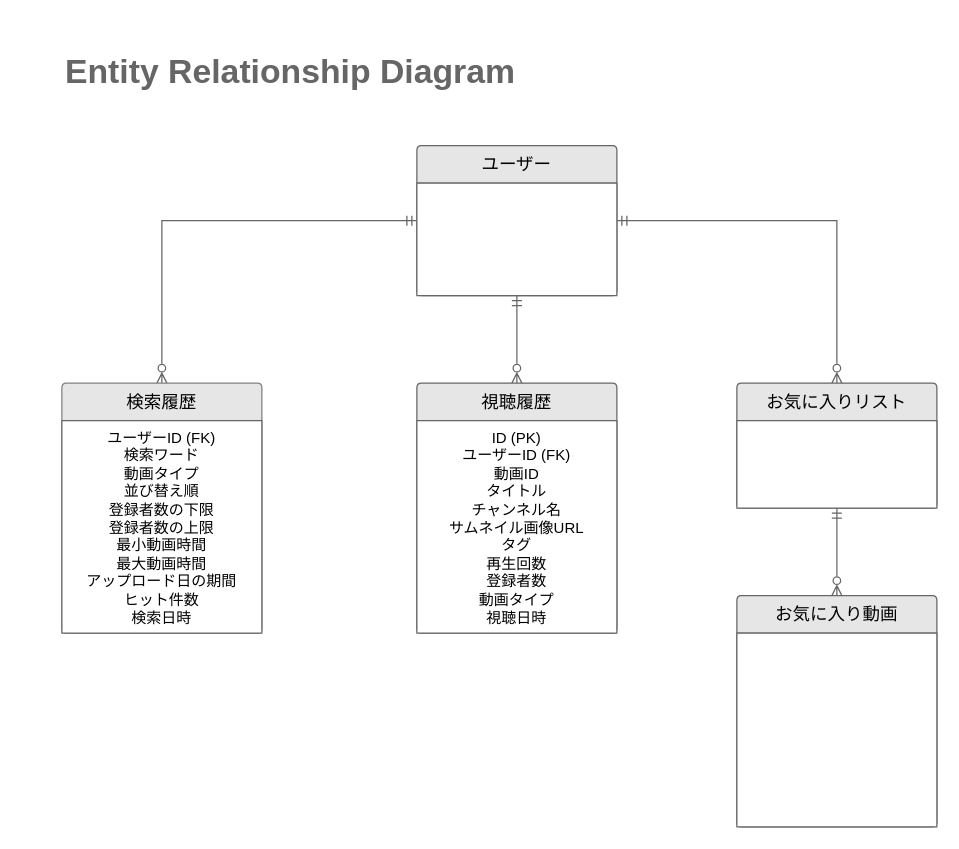
The diagram is 959 pixels wide and 849 high, and some of its shapes have lost their labels. The centre of each missing label's shape, as x and y in pixels:
"ID (PK) お気に入りリストID (FK) 動画ID タイトル チャンネル名 サムネイル画像URL 再生回数 動画タイプ 投稿日時 お気に入り追加日時" goes at (836,729).
"ID (PK) ユーザーID (FK) 名前 番号" goes at (836,463).
"ID (PK) ユーザー名 メールアドレス パスワード 最終ログイン日" goes at (516,239).
